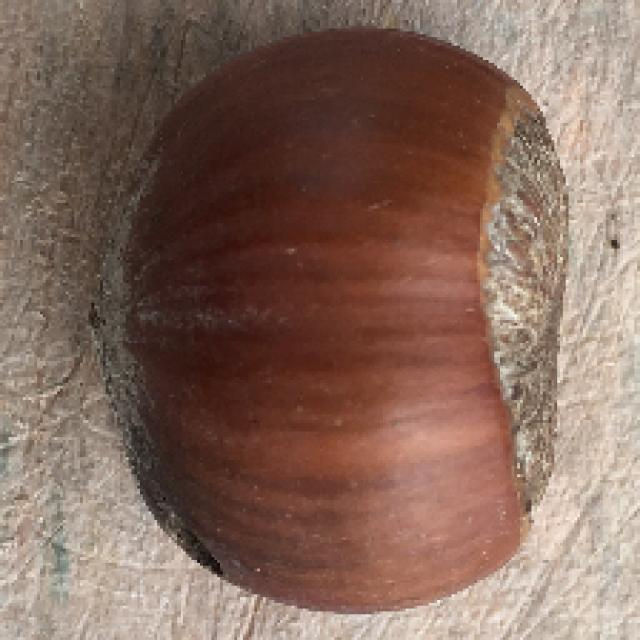damagedHazelnut: (86, 22, 565, 614)
